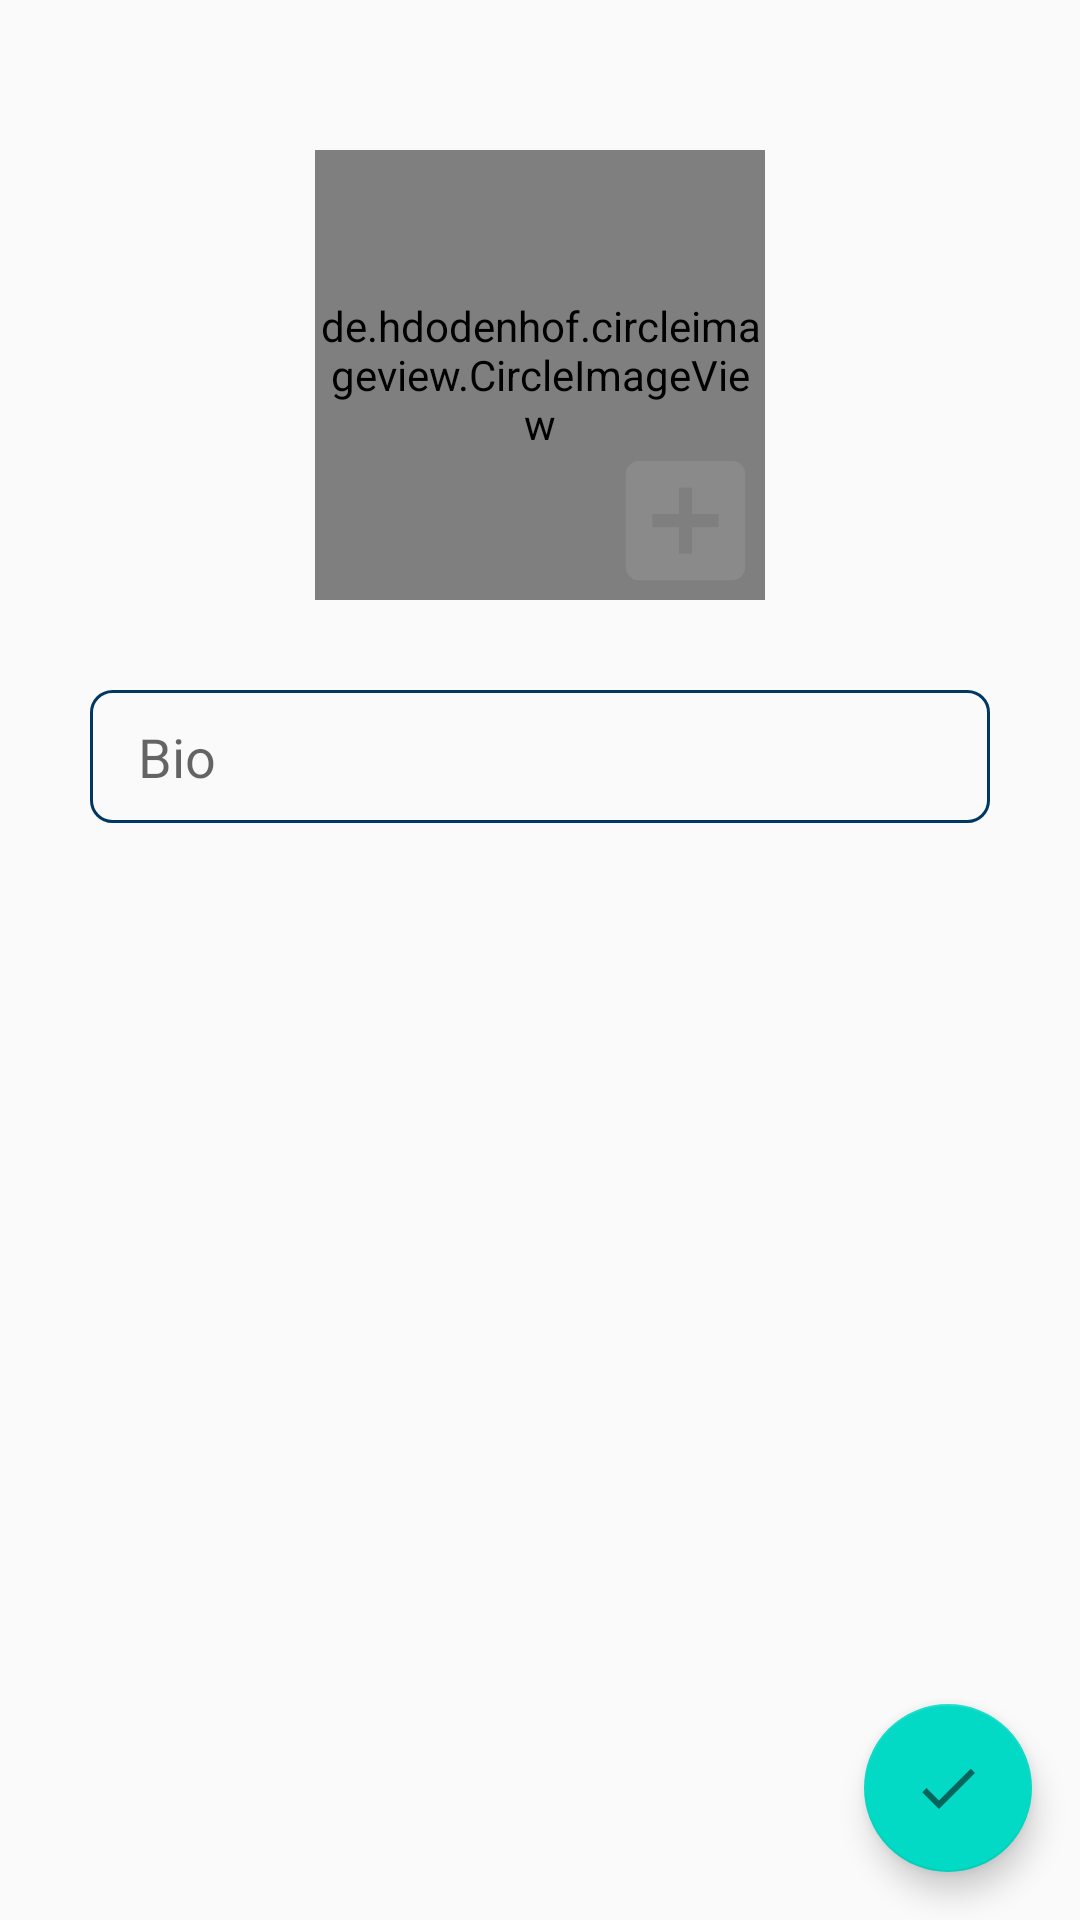

Locate icon controls on the screen. Image size 1080×1920, boxes as box(x1, y1, x2, y2).
check: box(864, 1704, 1032, 1872)
